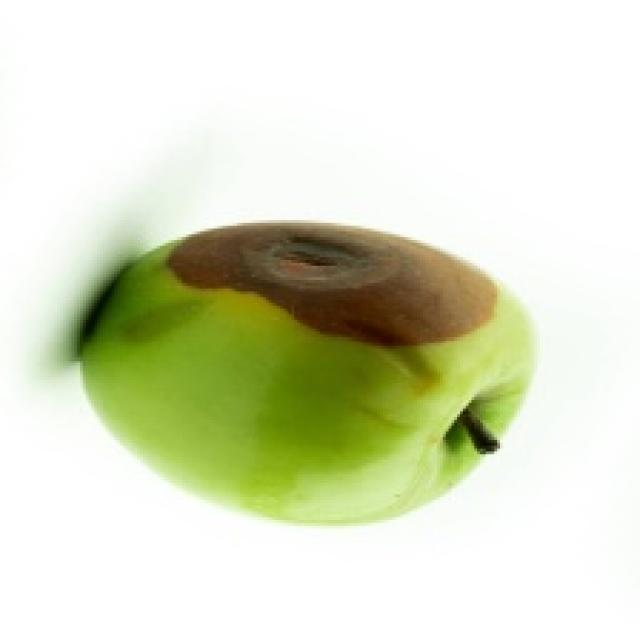apple: (77, 223, 534, 524)
